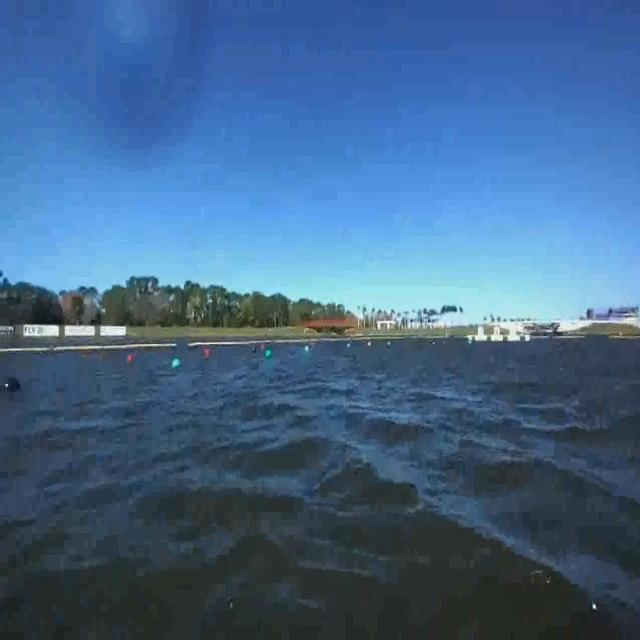black-buoy: (4, 369, 26, 404)
green-buoy: (171, 352, 181, 372), (266, 349, 274, 360)
red-buoy: (126, 348, 138, 368)
